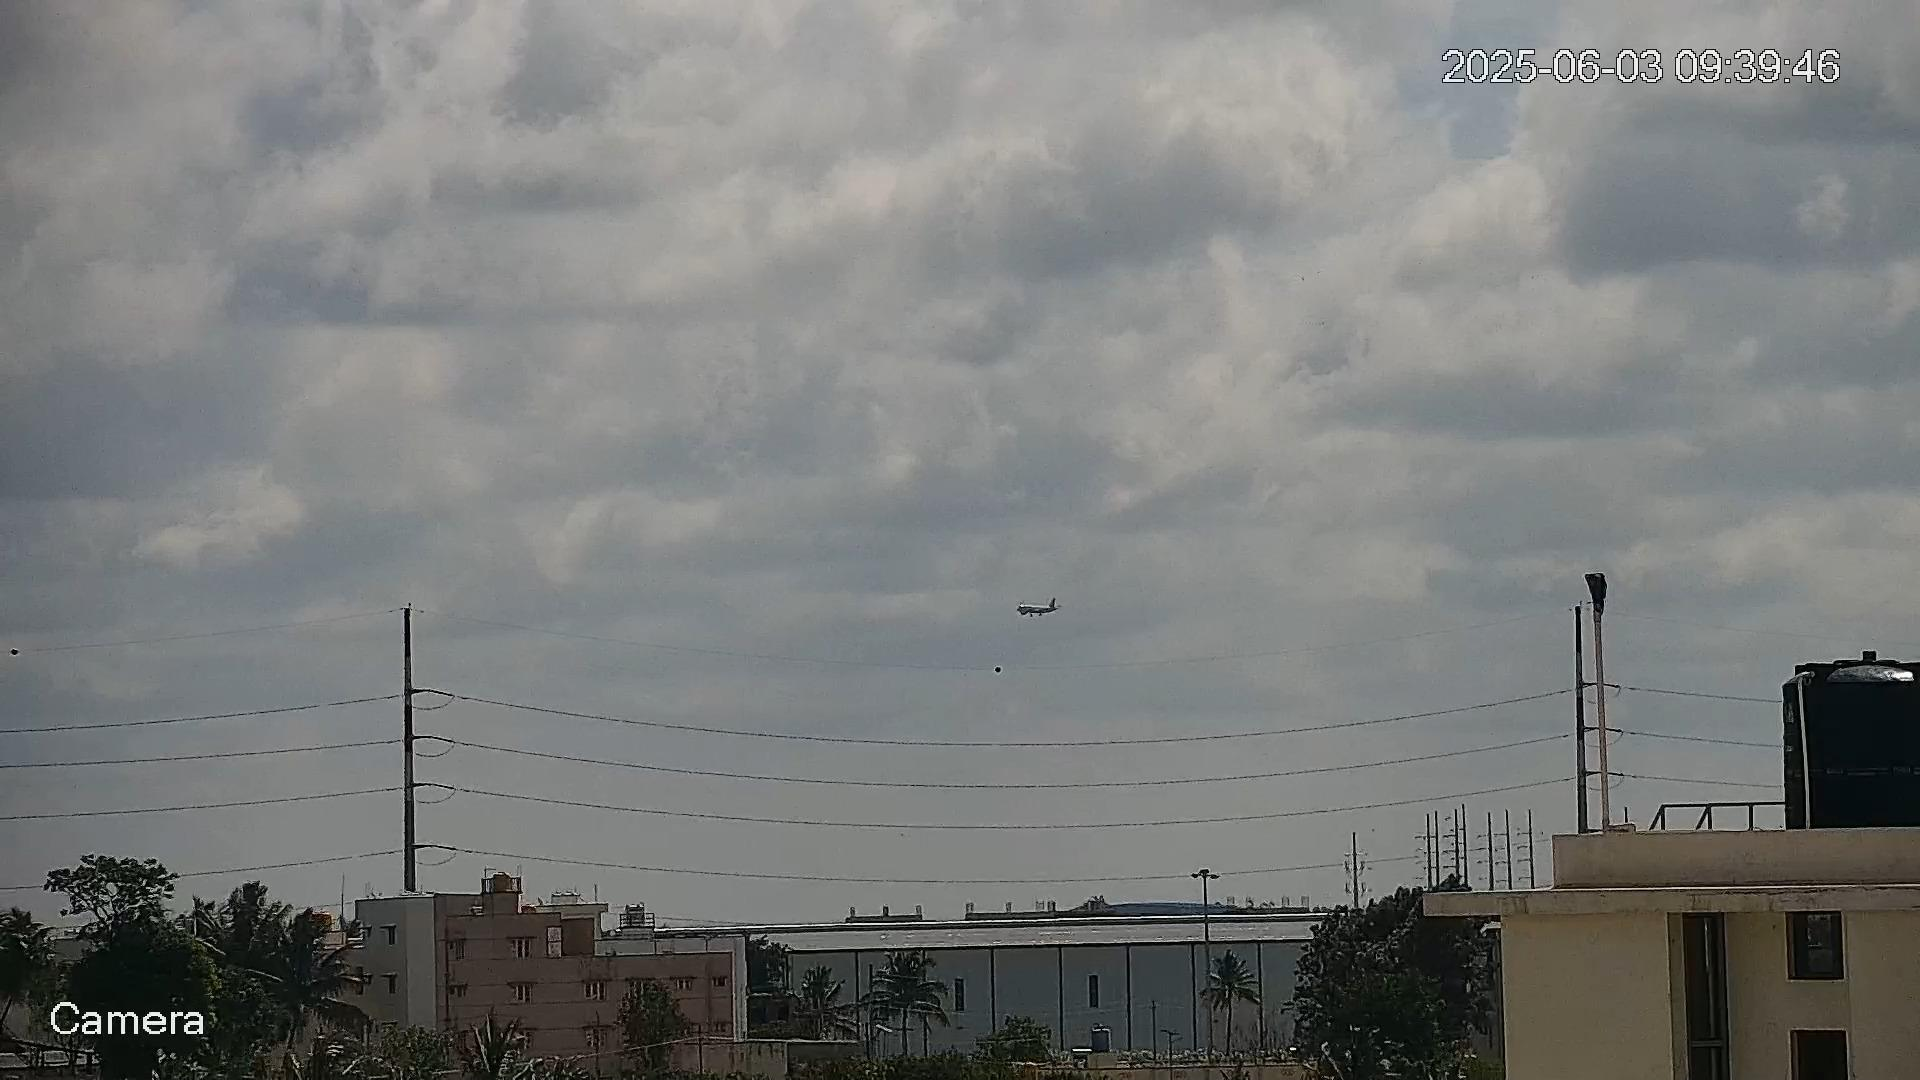Aircraft: (1014, 597, 1062, 618)
